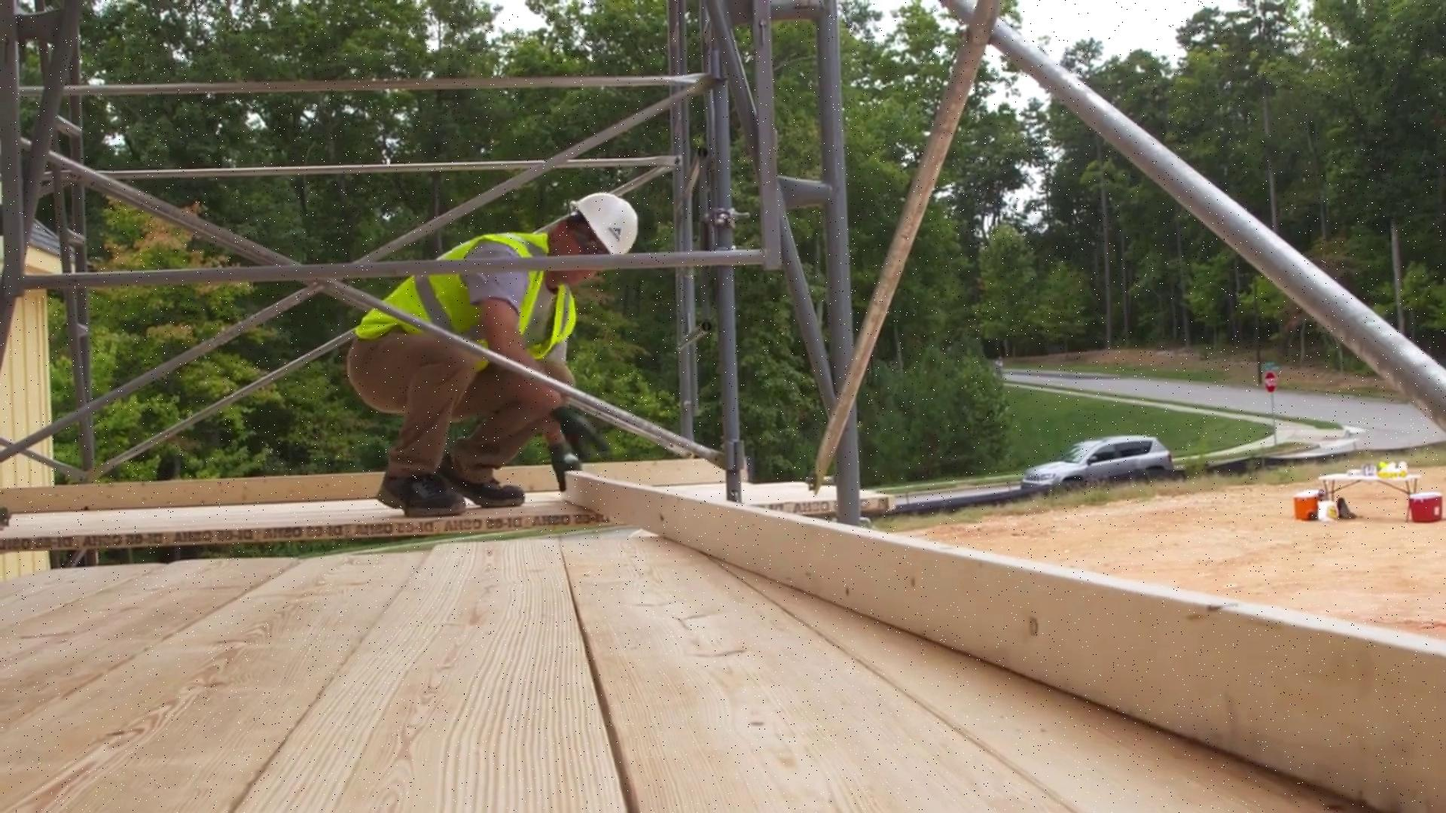Hard_hat: (578, 179, 647, 255), (564, 348, 567, 349)
Vest: (343, 241, 582, 349)
